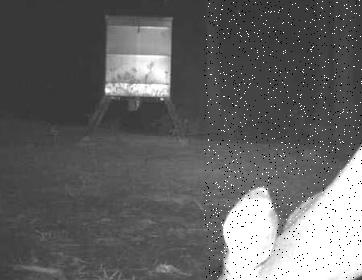Deer: (204, 0, 362, 280)
